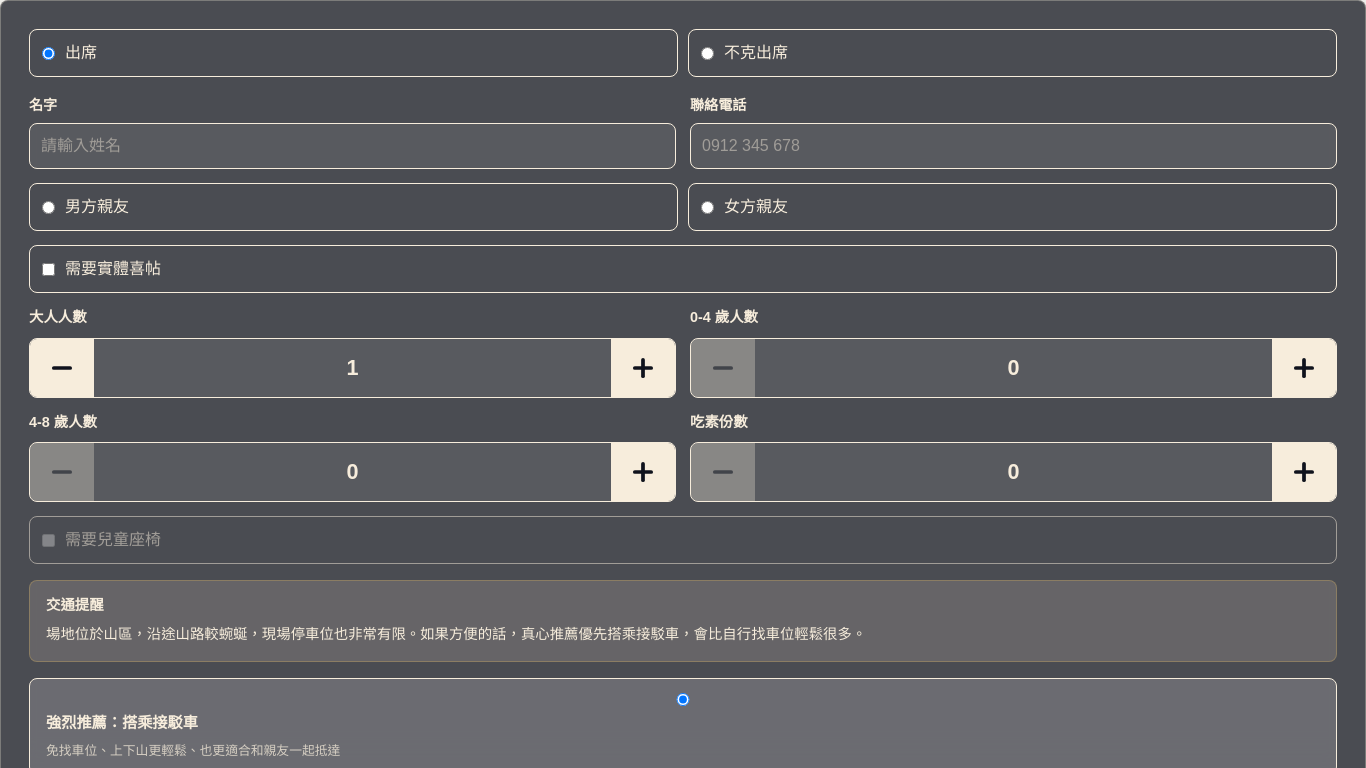
RsvpForm › hides dietary and guest fields when the guest declines
Expected: the element labelled "吃素份數" is shown, top-left (690, 412), bottom-right (1337, 502)
Expected: the radio button labelled "強烈推薦：搭乘接駁車 免找車位、上下山更輕鬆、也更適合和親友一起抵達" is checked, top-left (46, 693), bottom-right (1320, 706)
Click the radio button labelled "不克出席".
click(708, 53)  # box top-left (701, 46), bottom-right (714, 60)
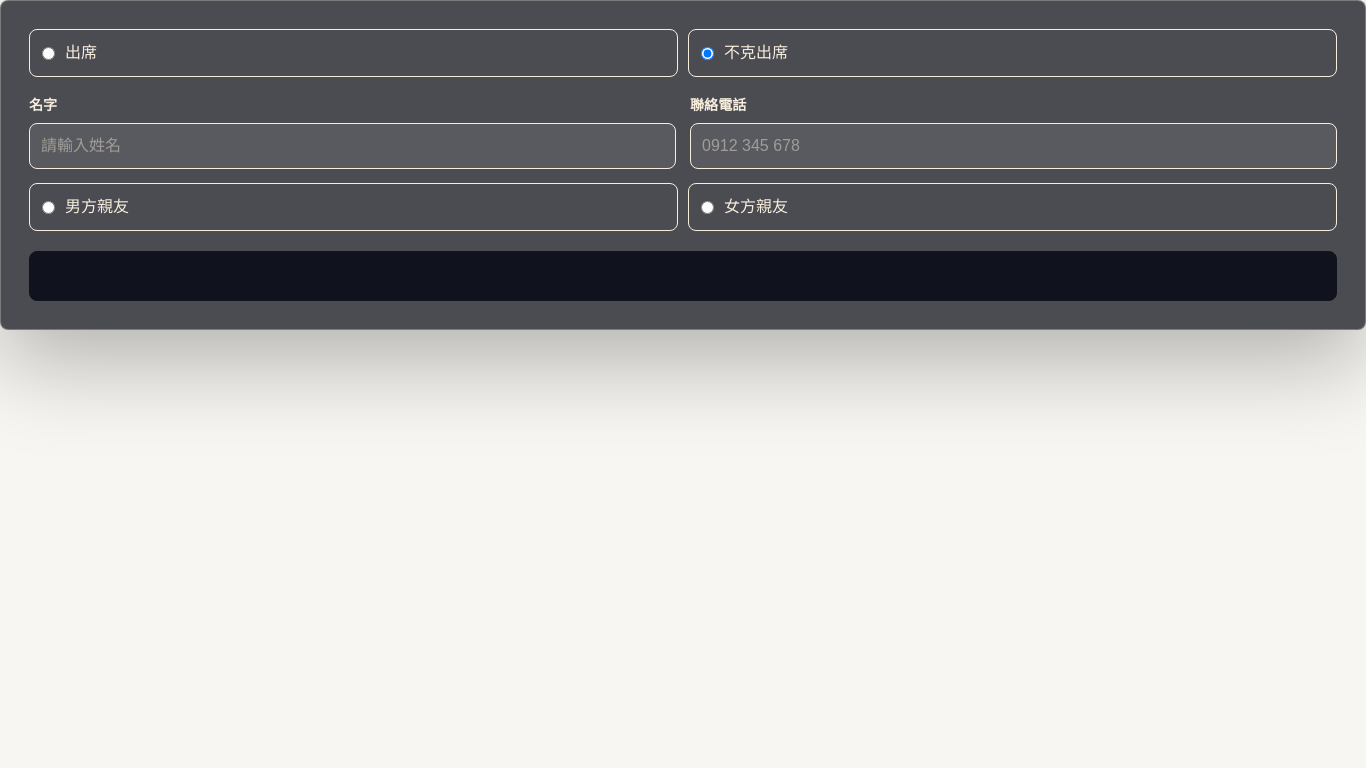
Now the text labelled "吃素份數" is gone
Now the text labelled "大人人數" is gone
